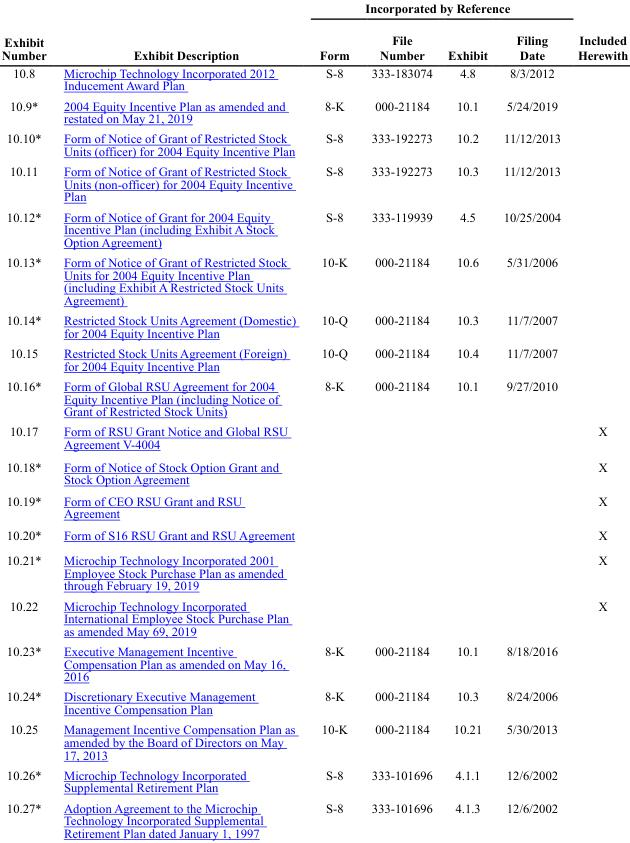table: (0, 0, 627, 839)
table column: (54, 0, 306, 839), (359, 0, 439, 839), (494, 0, 568, 839), (568, 0, 627, 839), (439, 0, 494, 839), (0, 0, 54, 839), (306, 0, 359, 839)
table column header: (0, 0, 627, 63)
table row: (0, 251, 627, 309), (0, 547, 627, 595), (0, 160, 627, 206), (0, 640, 627, 686), (0, 718, 627, 764), (0, 206, 627, 251), (0, 375, 627, 420), (0, 595, 627, 640), (0, 797, 627, 839), (0, 23, 627, 63), (0, 420, 627, 455), (0, 455, 627, 489), (0, 489, 627, 523), (0, 95, 627, 128), (0, 309, 627, 342), (0, 342, 627, 375), (0, 764, 627, 797), (0, 63, 627, 95), (0, 128, 627, 160), (0, 686, 627, 718), (0, 523, 627, 547), (0, 0, 627, 23)
table spanning cell: (54, 0, 306, 63), (306, 0, 568, 23), (568, 0, 627, 63), (0, 0, 54, 63)
